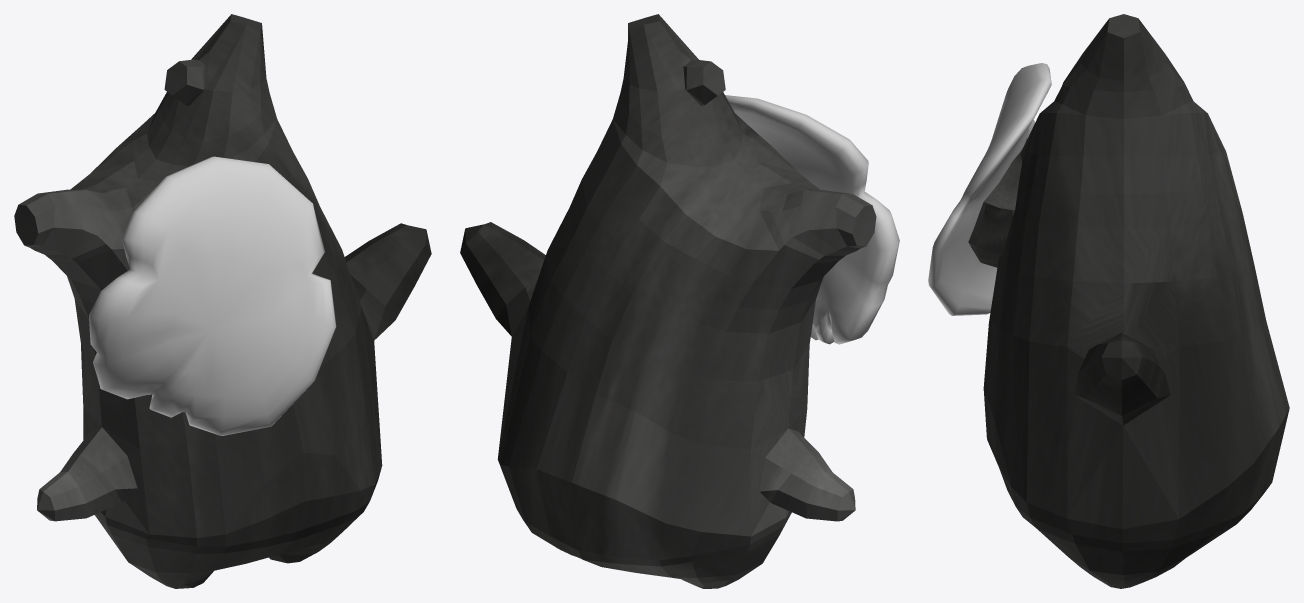
File: frame_0026.obj
3 renders of one model, left to right at view 1: azimuth 30°, elevation 25°; view 2: azimuth 150°, elevation 25°; view 3: azimuth 270°, elevation 25°, orthographic. The views are drawn at different scales.
Parts seen in each view (by area): view 1: korok, leaf; view 2: korok, leaf; view 3: korok, leaf, nose.
Boxes of the visible parts, x1,y1,x2,y2 form: korok: [14, 14, 431, 588]; leaf: [89, 156, 336, 435]; korok: [460, 14, 876, 588]; leaf: [725, 95, 899, 344]; korok: [983, 14, 1289, 588]; leaf: [928, 63, 1051, 315]; nose: [968, 138, 1027, 267].
Bounding box in the file's own units: 1.74 × 2.29 × 1.38.
